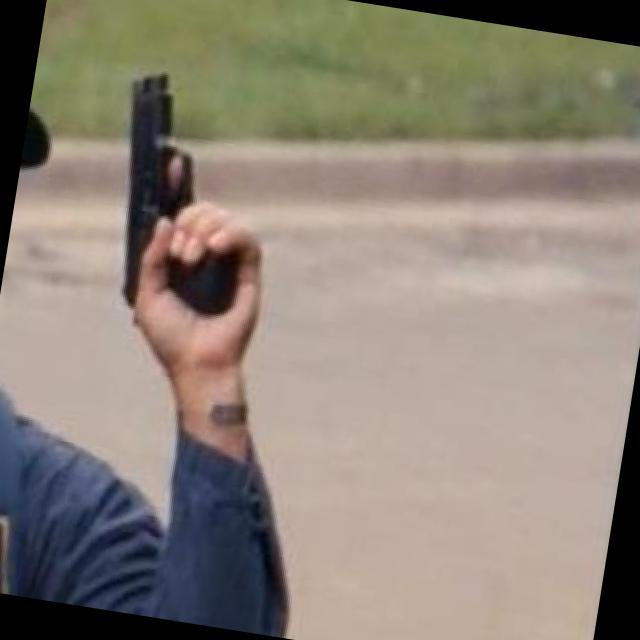Guns: (92, 52, 269, 339)
